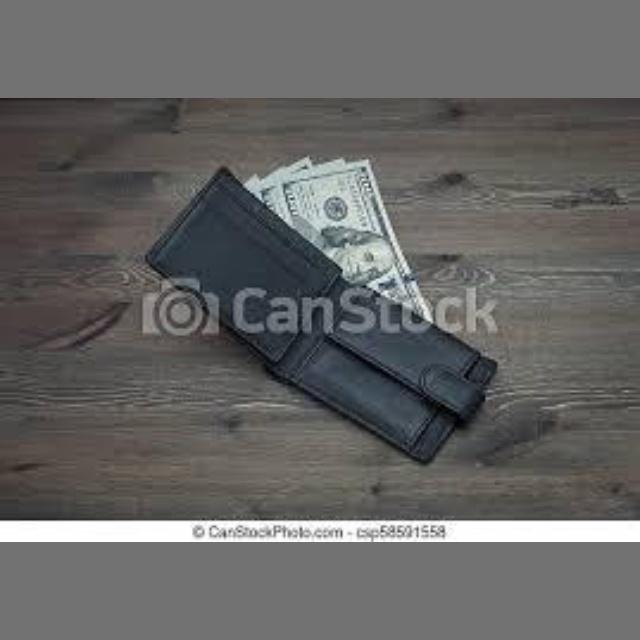Wallet: (144, 164, 516, 460)
